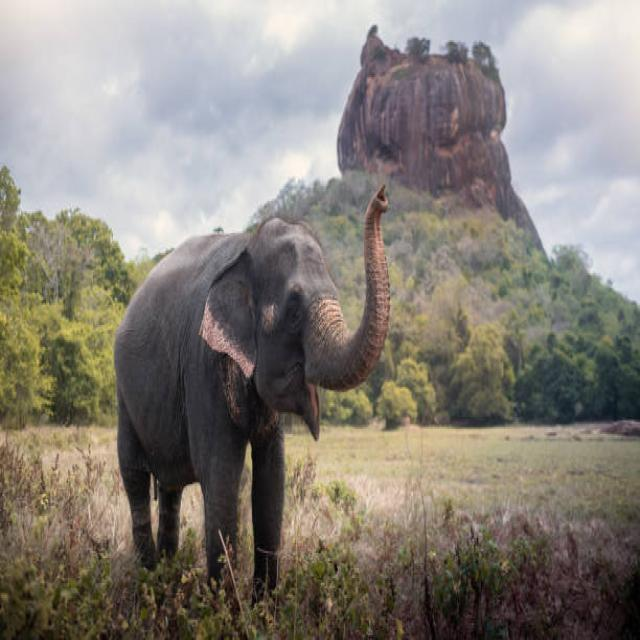Elephant: (110, 177, 400, 594)
